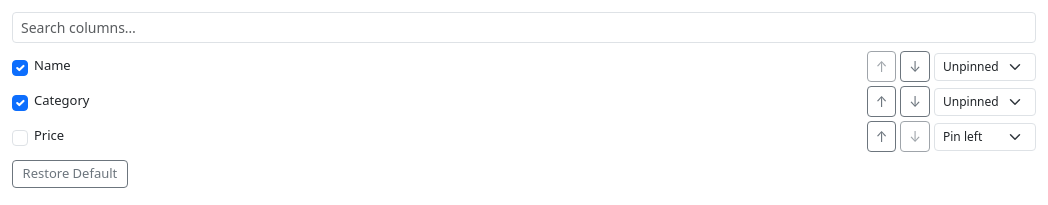
Test: DataTableColumnSettingsComponent › filters the rendered list via the search box, matching against header text
Type "cat" into the field with placeholder "Search columns…". click: (524,28)
box: [12, 12, 1036, 43]
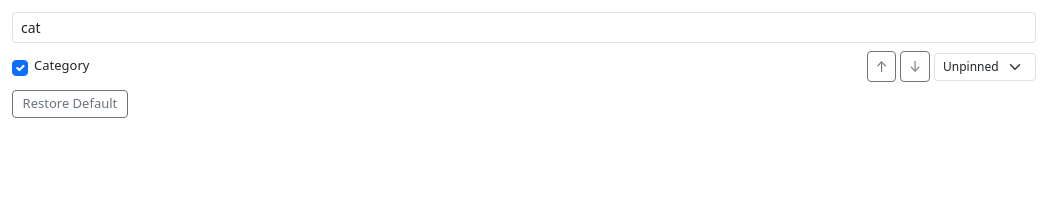
Check: the list item with class "data-table-column-settings__item" shows "Category", box [34, 56, 89, 74]
Check: the number of list items with class "data-table-column-settings__item" is 1, box [12, 51, 1036, 82]
